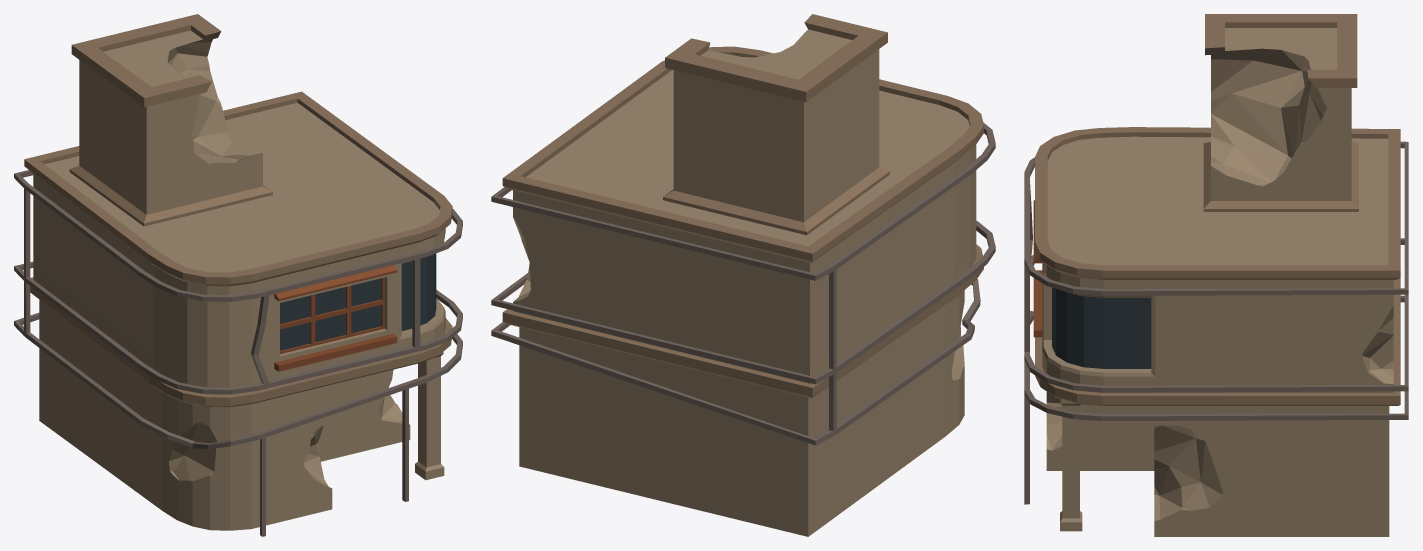
File: LP_PostApoc_BuildingPreset3.fbx
3 renders of one model, left to right at view 1: azimuth 30°, elevation 25°; view 2: azimuth 150°, elevation 25°; view 3: azimuth 270°, elevation 25°, orthographic. The views are drawn at different scales.
Parts seen in each view (by area): view 1: BuildingPreset3; view 2: BuildingPreset3; view 3: BuildingPreset3.
Boxes of the visible parts, x1,y1,x2,y2 form: BuildingPreset3: [14, 14, 462, 536]; BuildingPreset3: [491, 14, 995, 536]; BuildingPreset3: [1024, 14, 1408, 536].
Size of the model in its own units: 636 by 776 by 676.
